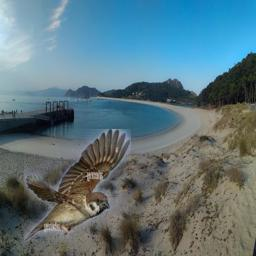Sparrow: (24, 129, 131, 242)
